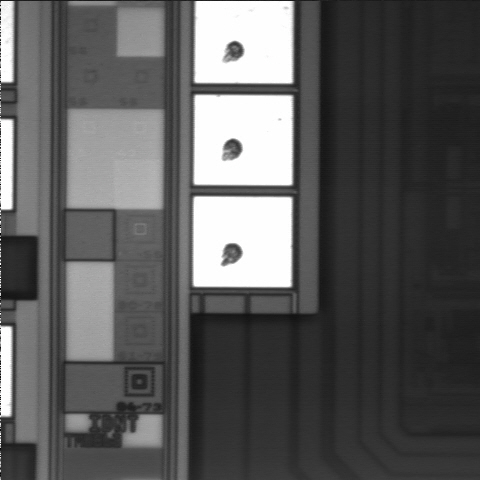pad: (193, 197, 292, 287), (194, 95, 292, 185)
